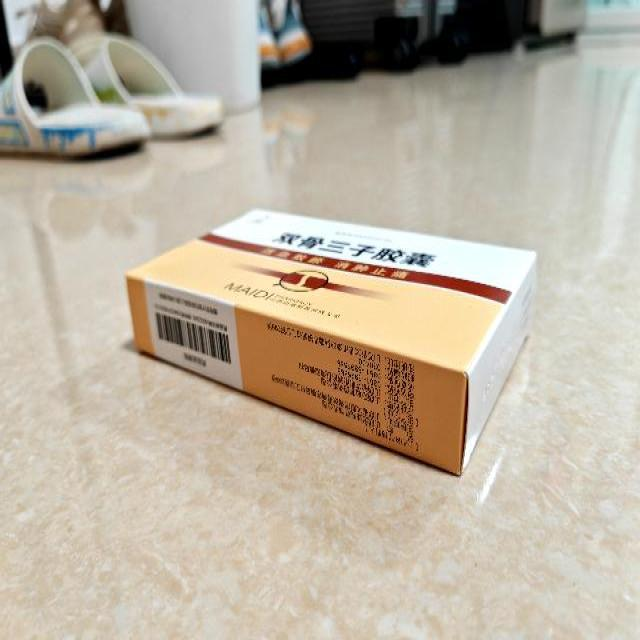box: (126, 207, 536, 478)
